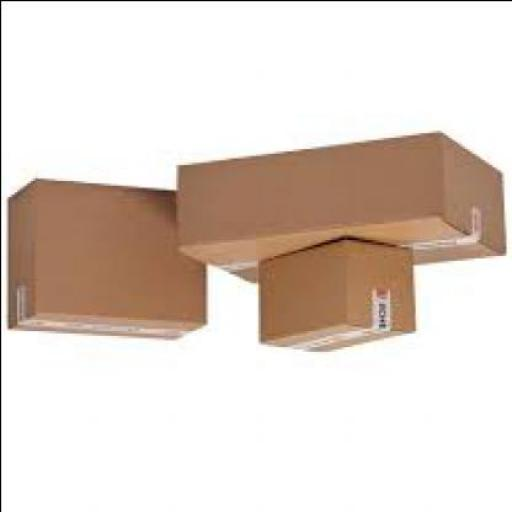cardboard: (173, 134, 503, 287), (2, 177, 202, 340), (255, 236, 412, 354)
